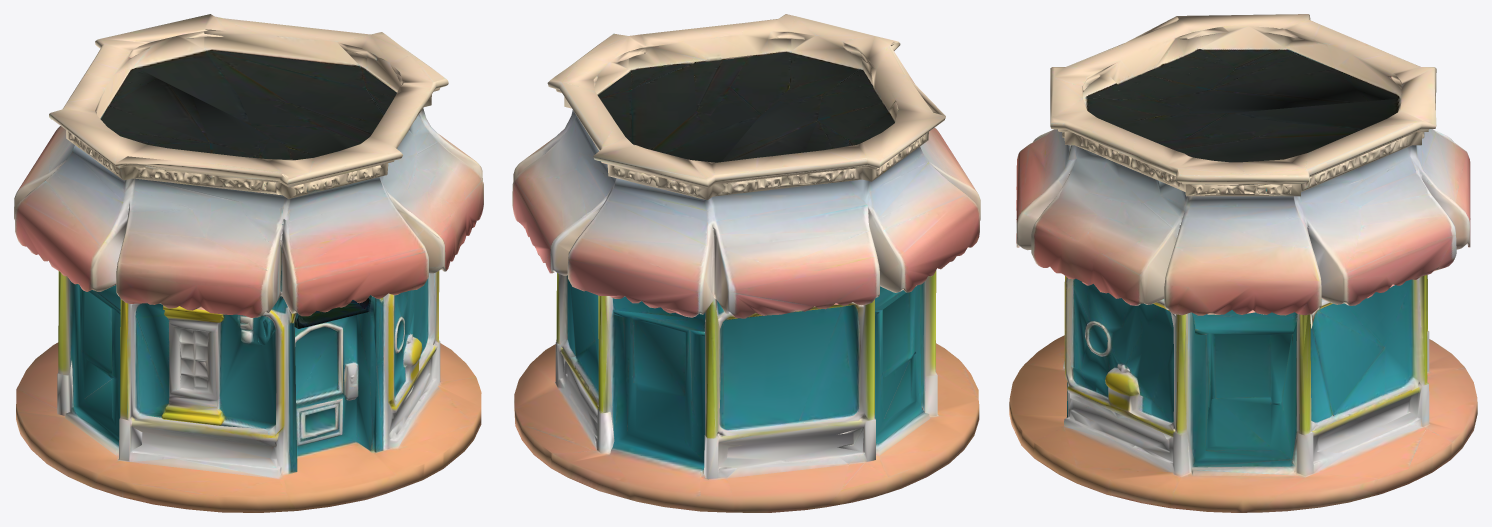
File: clay-shop.glb
3 views of the same model, side by side, from view 1: azimuth 30°, elevation 25°; view 2: azimuth 150°, elevation 25°; view 3: azimuth 270°, elevation 25° (orthographic).
Size of the model in its own units: 1.91 by 1.44 by 1.91.
Materials: 1 (1 with a texture image).
